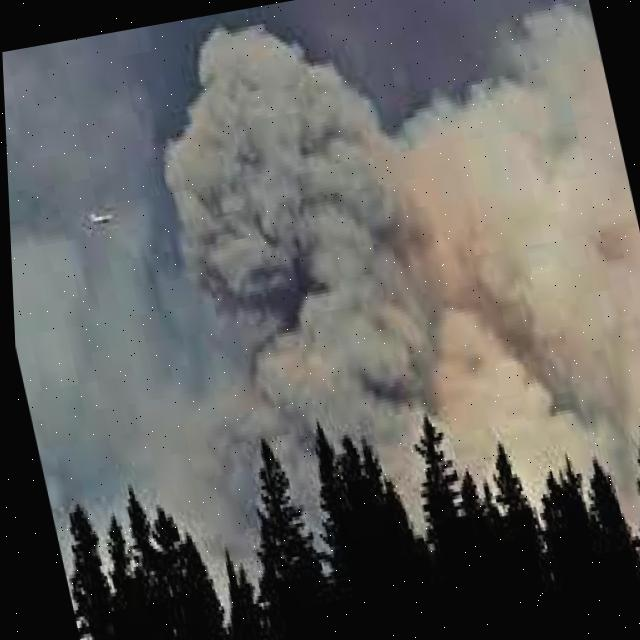smoke: (2, 0, 640, 540)
